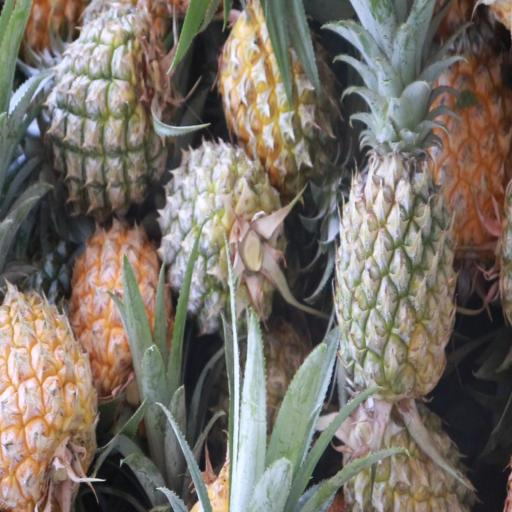------------------------------: (50, 16, 176, 207), (220, 0, 336, 189), (170, 145, 288, 330)
Pineapple - v8 v1: (0, 296, 97, 505), (68, 221, 170, 399), (427, 33, 512, 242)
